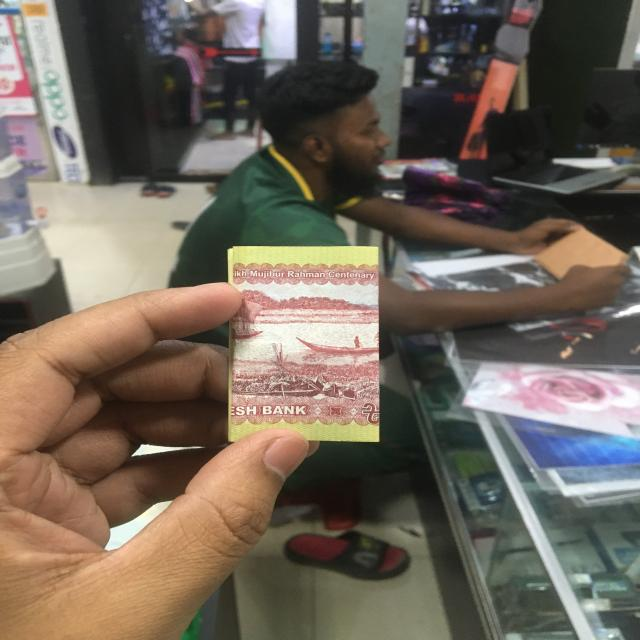Taka: (233, 245, 384, 440)
